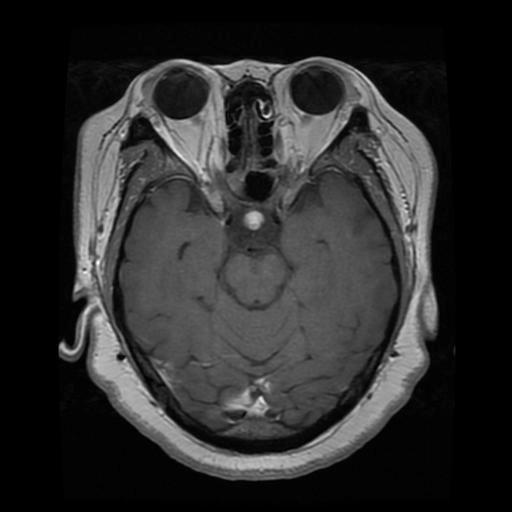Tumour-Pituitary: (243, 209, 268, 233)
